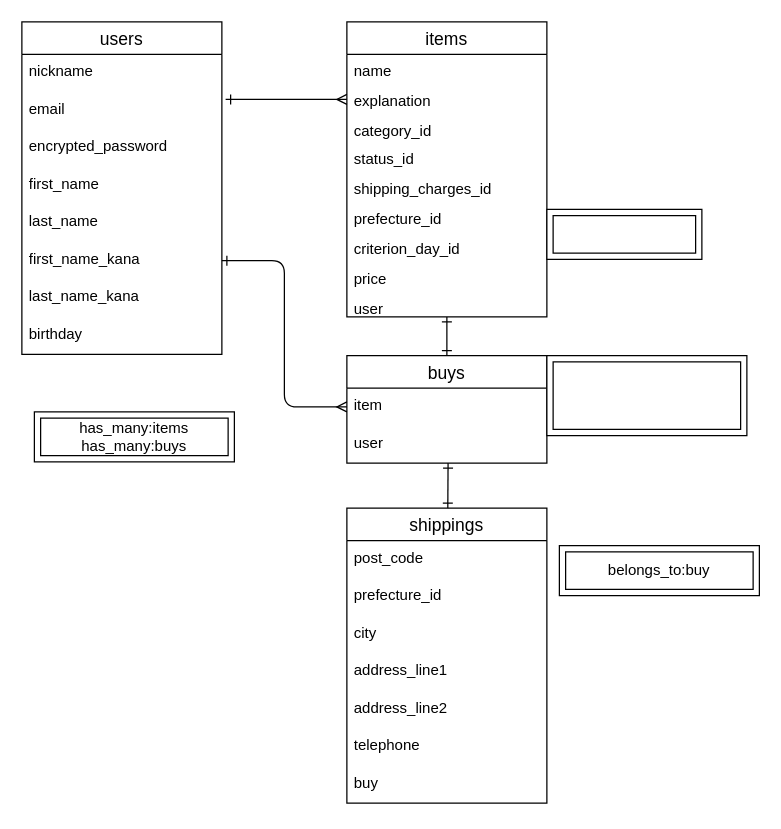
Image size: 781x829. Some labels were removed from this diagram. The shapes that lost their labels are listed below. From the top down, each one's centre as x and y in pixels, then its label:
(x=624, y=233): belongs_to:user has_one:buy
(x=646, y=395): belongs_to:user belongs_to:item has_one:shipping
